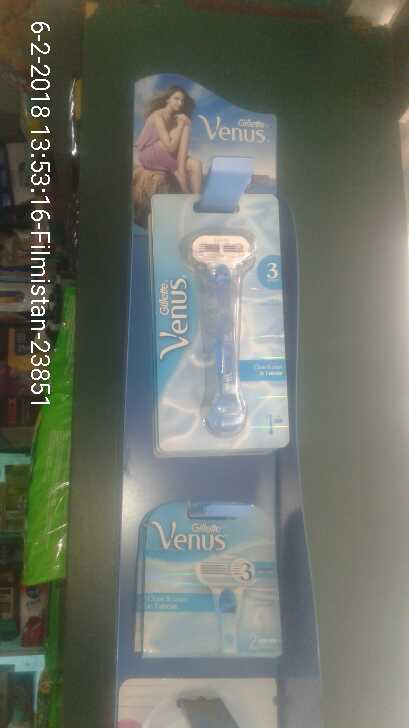venus: (142, 189, 297, 455), (142, 504, 296, 666)
